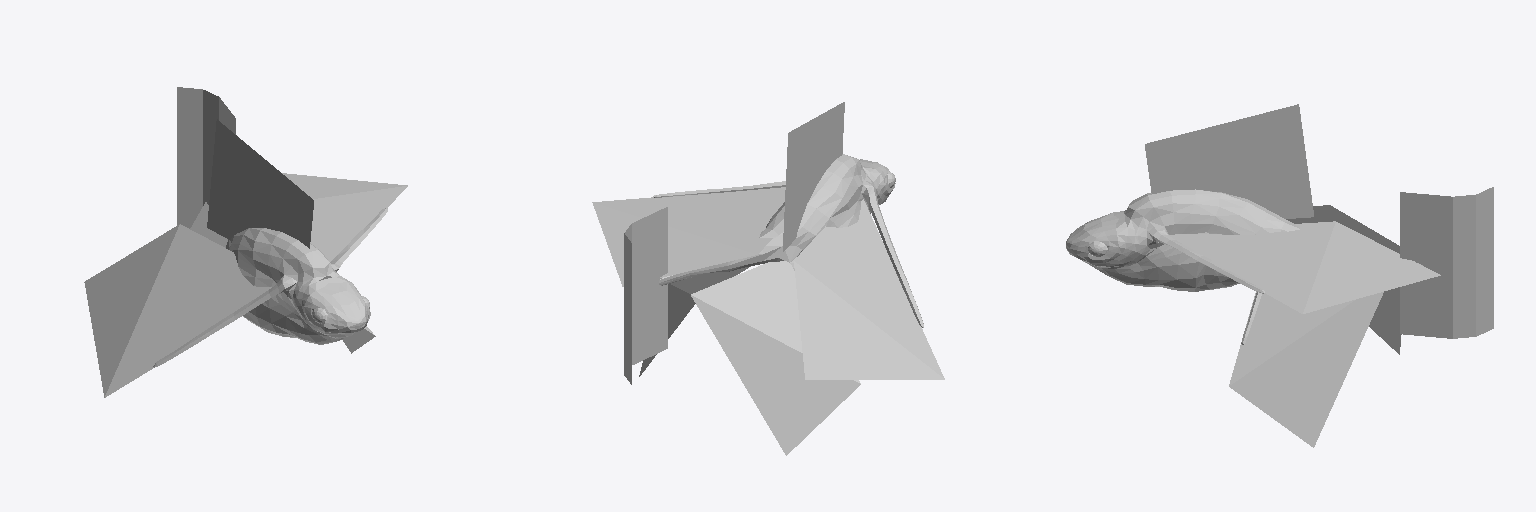
Rendered from fish_000031.obj.
3 renders of one model, left to right at view 1: azimuth 30°, elevation 25°; view 2: azimuth 150°, elevation 25°; view 3: azimuth 270°, elevation 25°, orthographic.
Parts seen in each view (by area): view 1: flyingFish_low_StingrayPBS1_0; view 2: flyingFish_low_StingrayPBS1_0; view 3: flyingFish_low_StingrayPBS1_0.
Boxes of the visible parts, box(x1,y1,x2,y2) form: flyingFish_low_StingrayPBS1_0: box(84, 87, 407, 397); flyingFish_low_StingrayPBS1_0: box(592, 102, 944, 455); flyingFish_low_StingrayPBS1_0: box(1066, 104, 1493, 447).
Bounding box in the file's own units: 17.23 × 13.77 × 19.45.